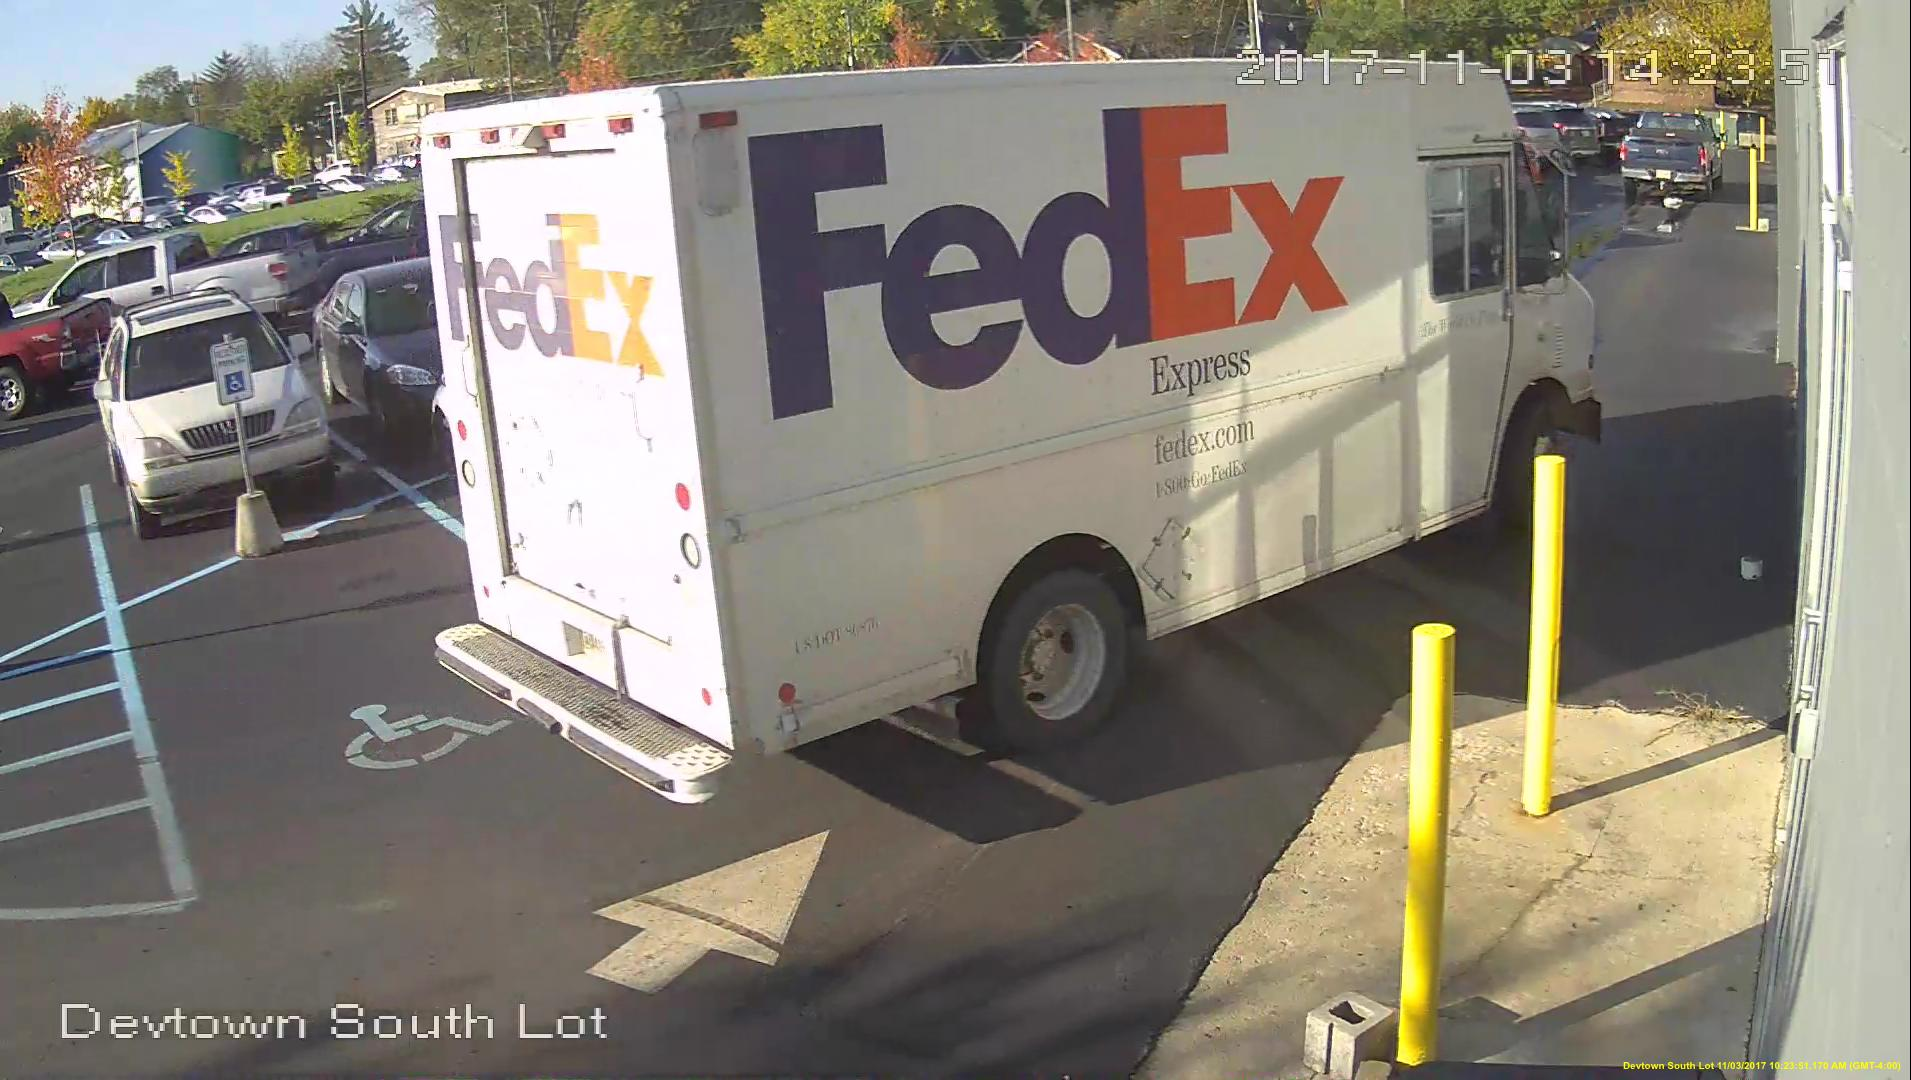fedex_truck: (407, 59, 1624, 808)
